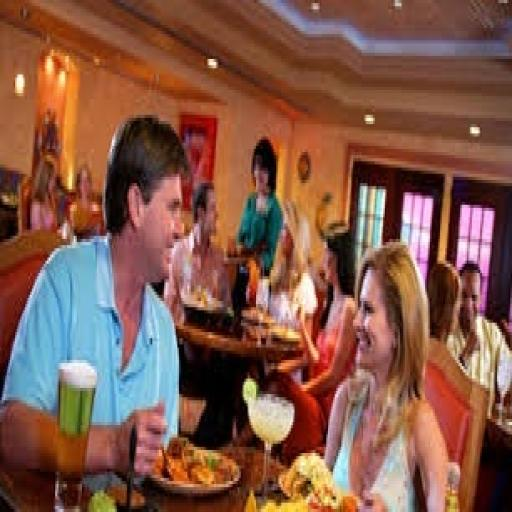eating: (2, 109, 190, 481)
